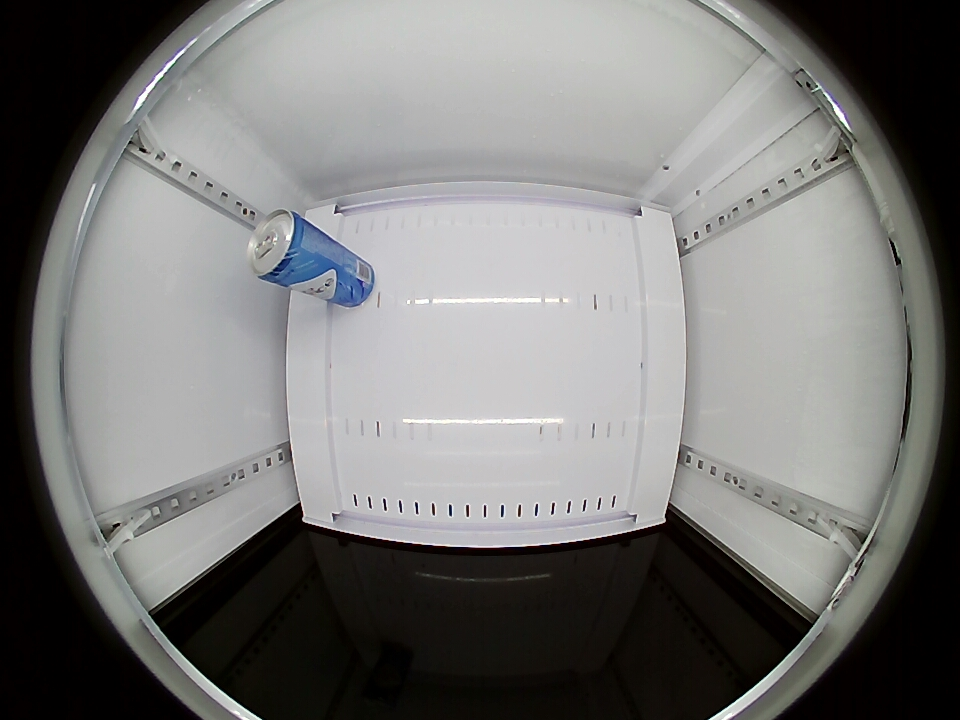qingdaowangzi-2: (248, 209, 315, 286)
